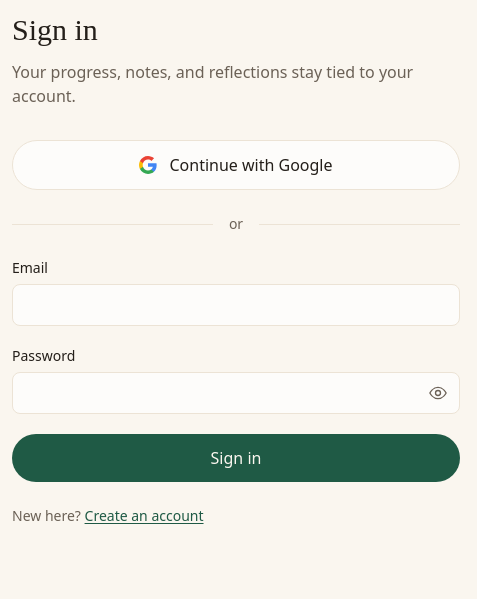
LoginPage › asks the user to confirm their email after signing up
This screenshot has width=477, height=599.
Click the button "Create an account". click: coordinates (144, 516)
box: top-left (85, 506), bottom-right (204, 526)
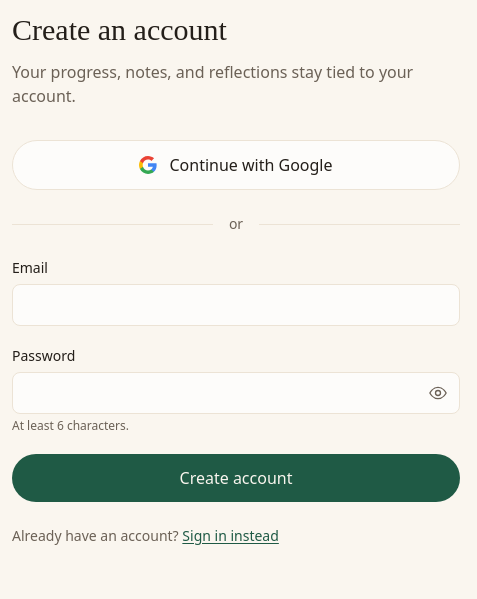
Type "reader@example.com" into the field labelled "Email". click: coordinates (236, 305)
box: top-left (12, 284), bottom-right (460, 326)
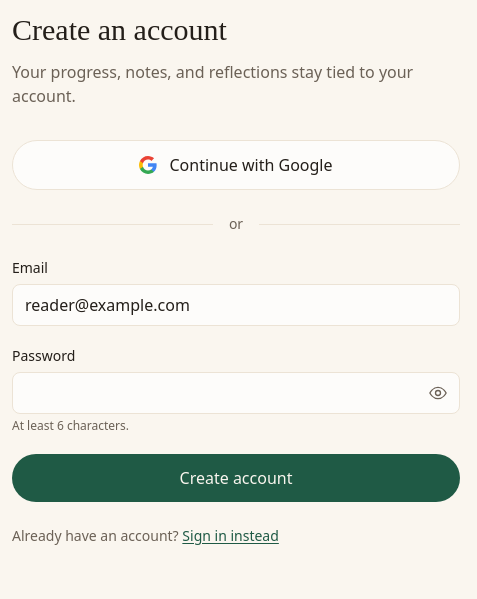
Type "secret123" into the password field labelled "Password". click: coordinates (236, 393)
box: top-left (12, 372), bottom-right (460, 414)
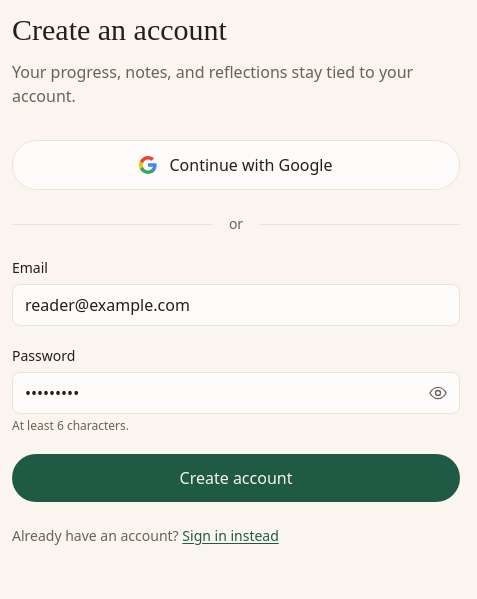
Click the button "Create account". click: coordinates (236, 478)
box: top-left (12, 454), bottom-right (460, 502)
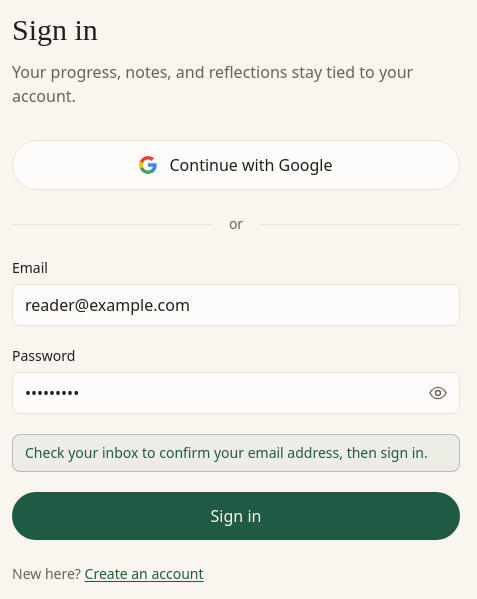
Check: the text "Check your inbox to confirm your email address, then sign in." is shown, box top-left (12, 434), bottom-right (460, 472)
